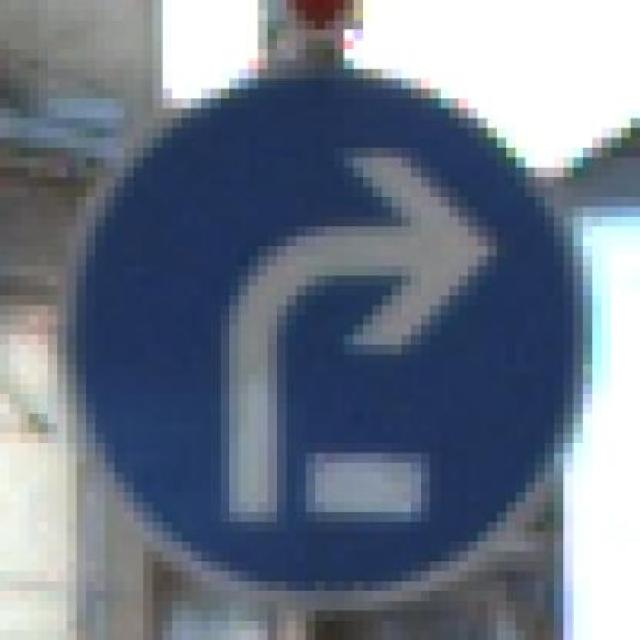Turn right ahead: (58, 69, 612, 611)
